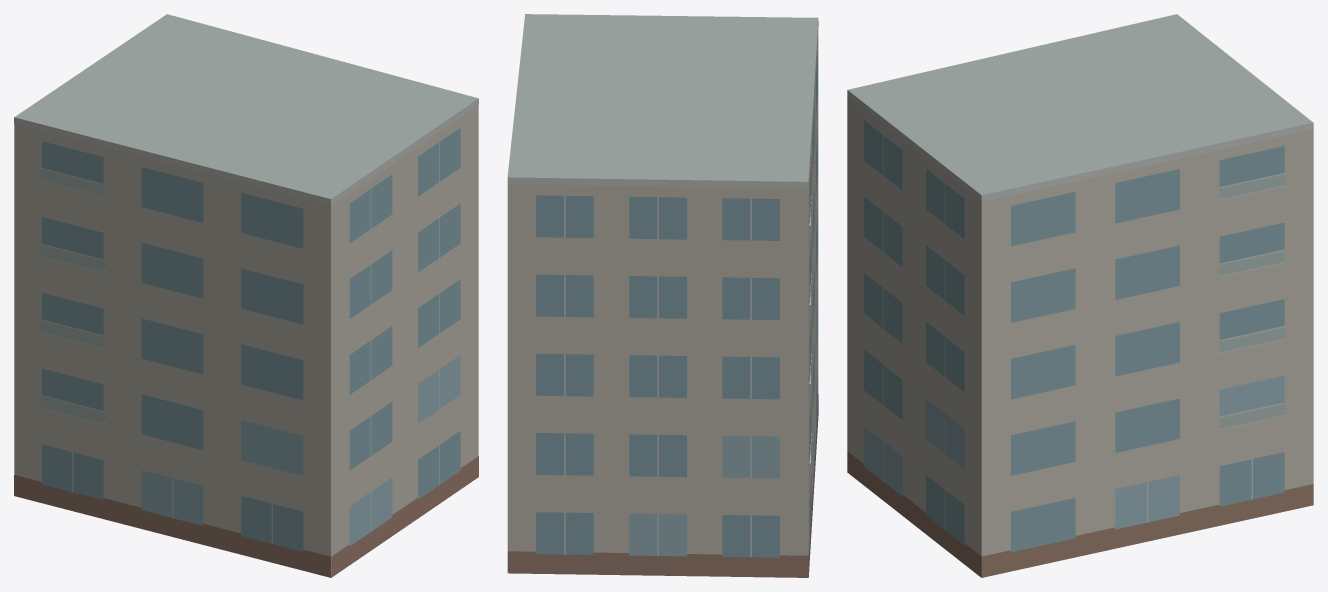
File: survey-upis-32882523.glb
3 renders of one model, left to right at view 1: azimuth 30°, elevation 25°; view 2: azimuth 150°, elevation 25°; view 3: azimuth 270°, elevation 25°, orthographic. The views are drawn at different scales.
Visible parts, largest first — view 1: survey-upis-32882523.tmp; view 2: survey-upis-32882523.tmp; view 3: survey-upis-32882523.tmp.
Part boxes in pixels (x1,y1,x2,y2): survey-upis-32882523.tmp: [14, 14, 478, 577]; survey-upis-32882523.tmp: [507, 14, 818, 577]; survey-upis-32882523.tmp: [847, 14, 1313, 577].
Size of the model in its own units: 14.34 by 14.1 by 15.58.
